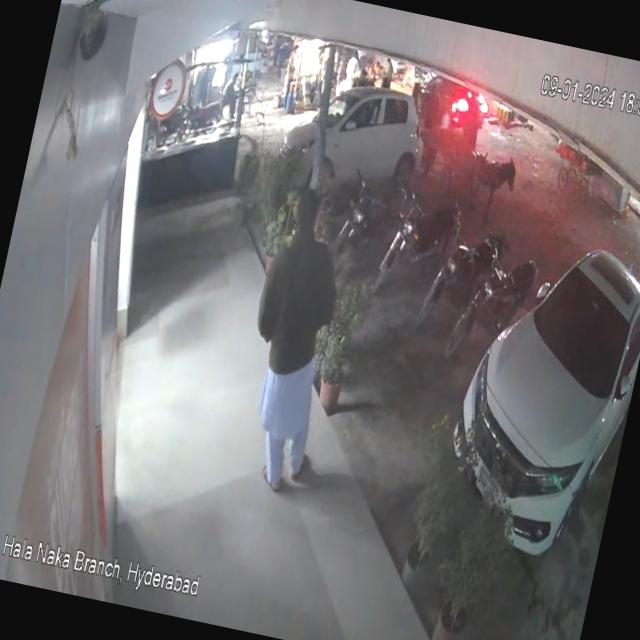Car: (427, 209, 640, 585), (272, 71, 446, 221)
Motorcycle: (374, 175, 469, 314), (442, 230, 526, 366), (415, 222, 474, 340)
